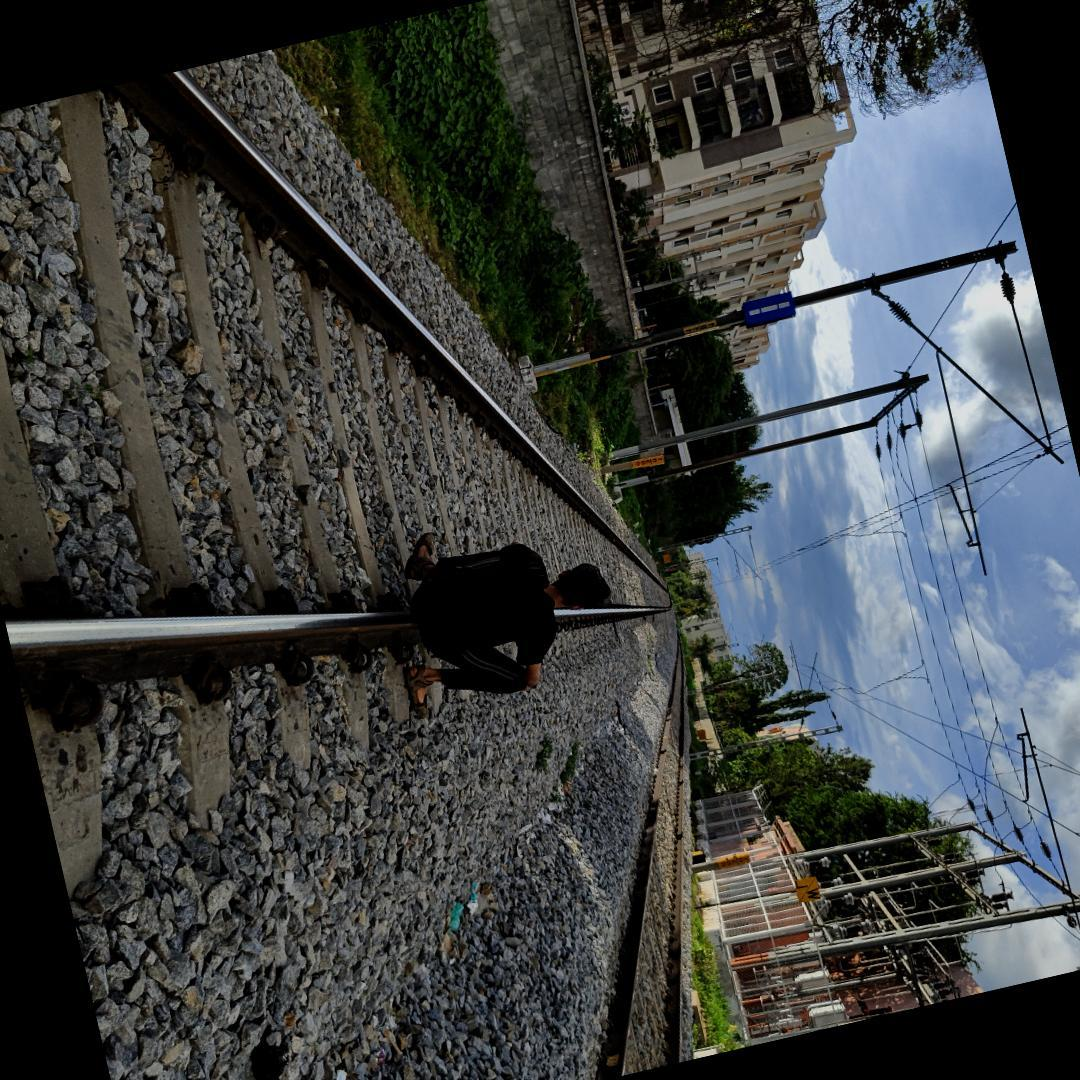sitting: (370, 478, 631, 720)
